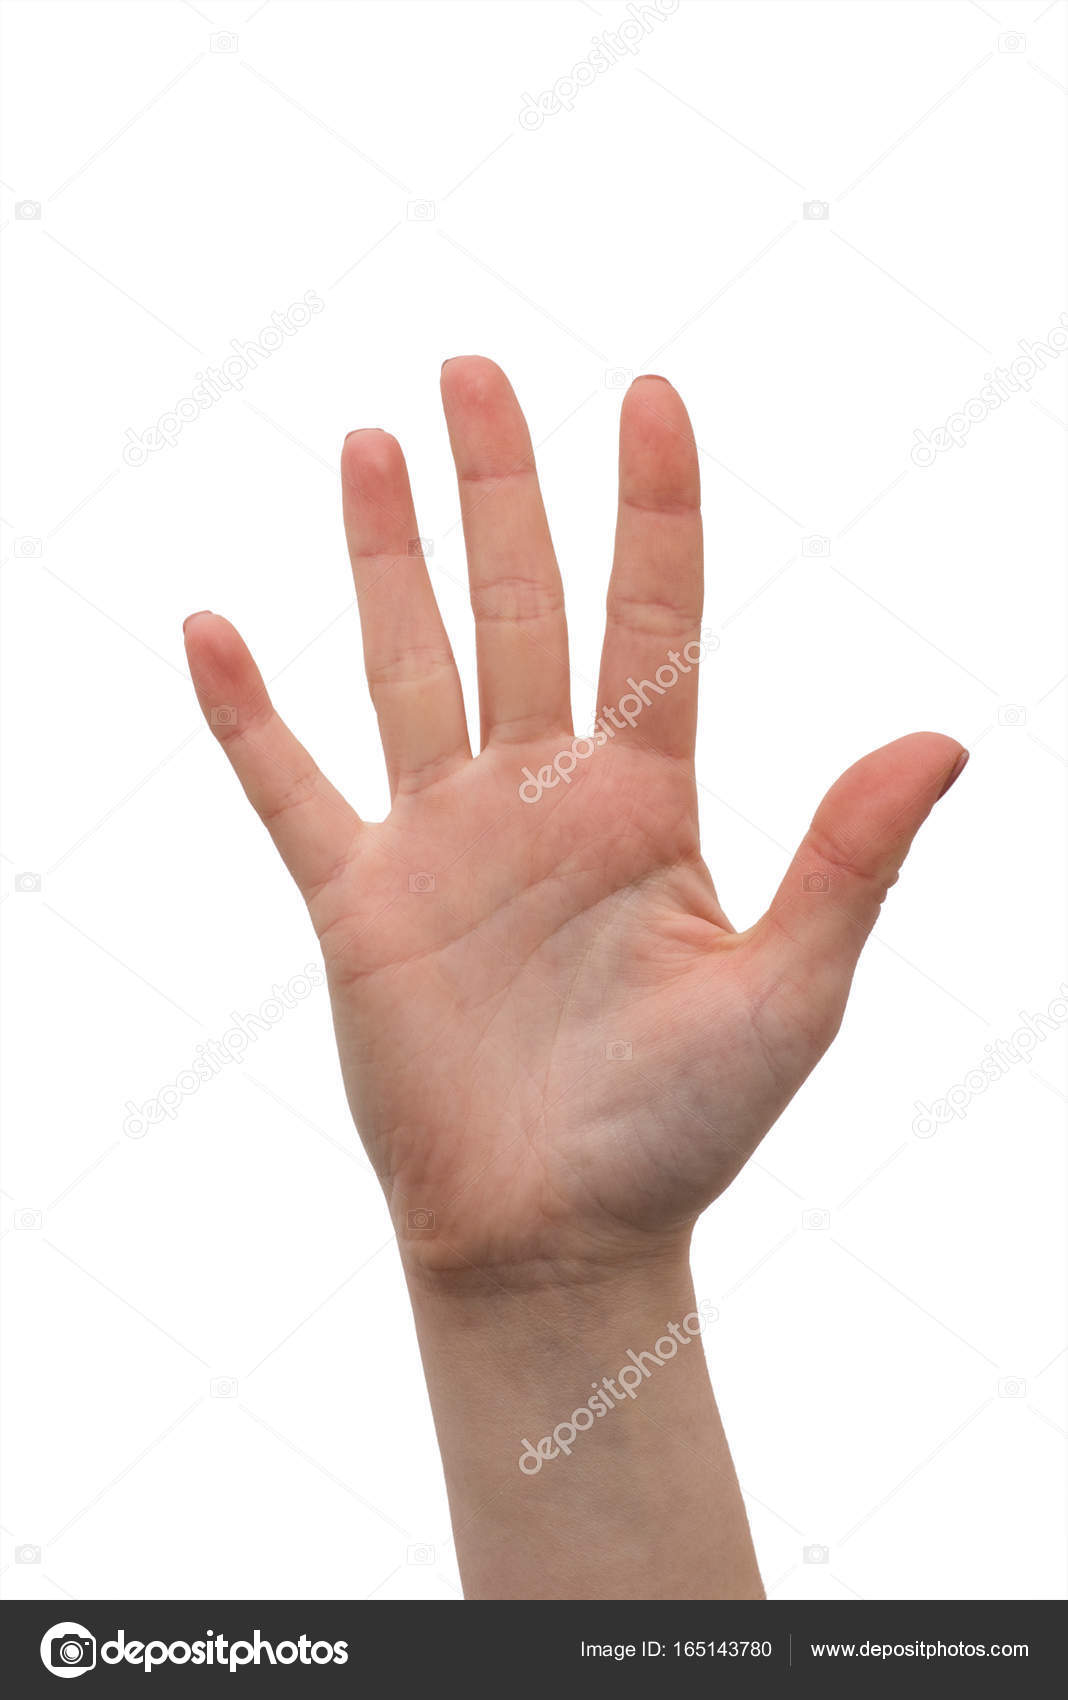open_hand: (105, 324, 1045, 1284)
